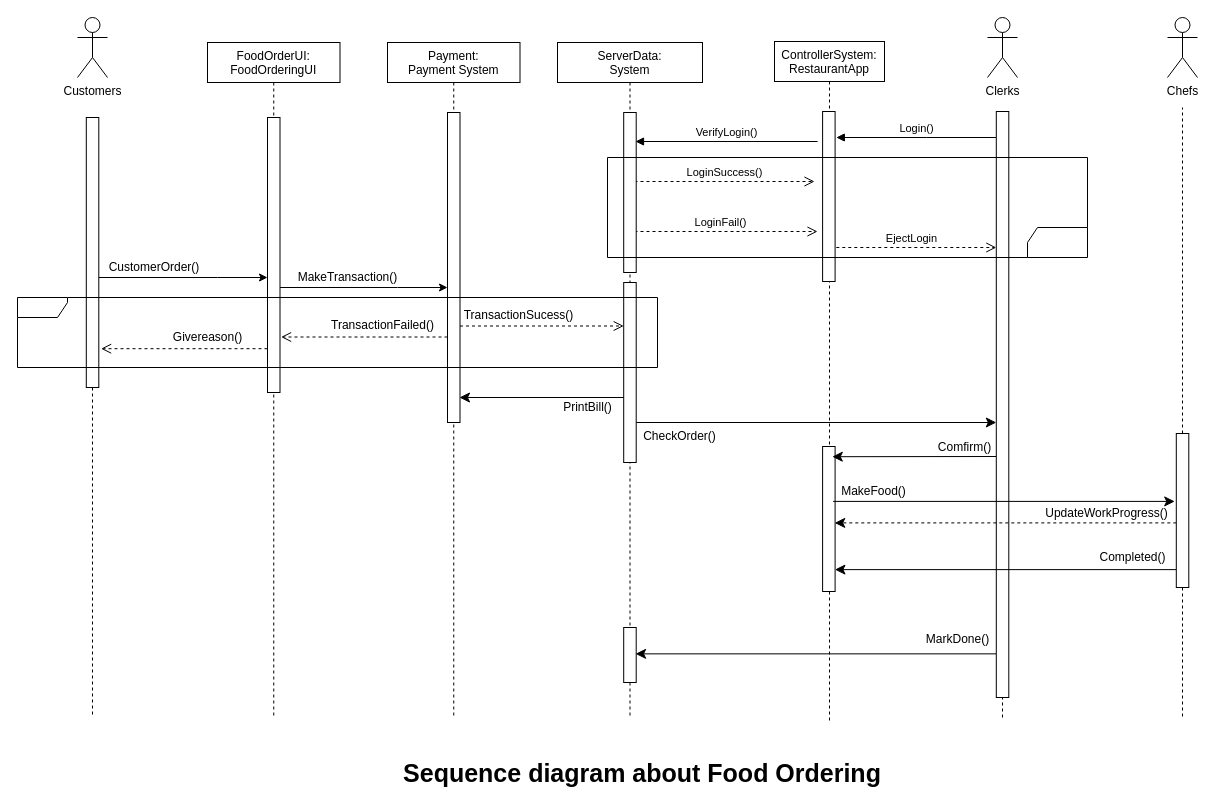
Image size: 1215x805. Some labels were removed from this diagram. Each missing label, with the centre of its shape:
Alt: point 847,207
Opt: point 337,332
